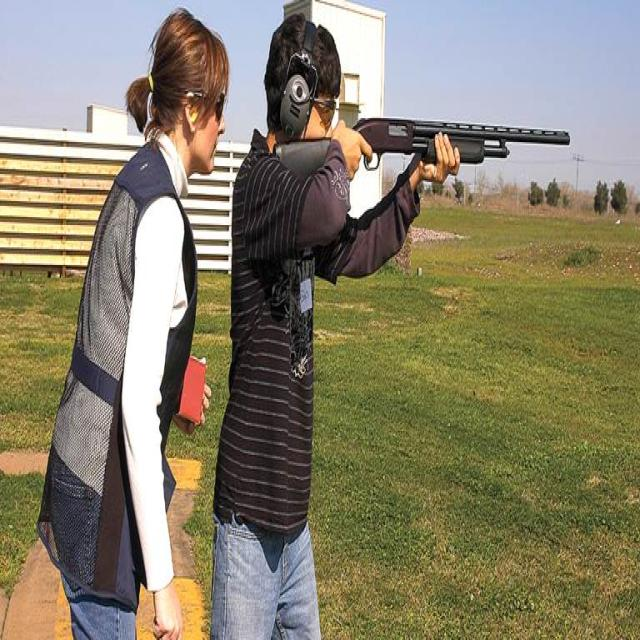ShotGun: (274, 118, 571, 180)
